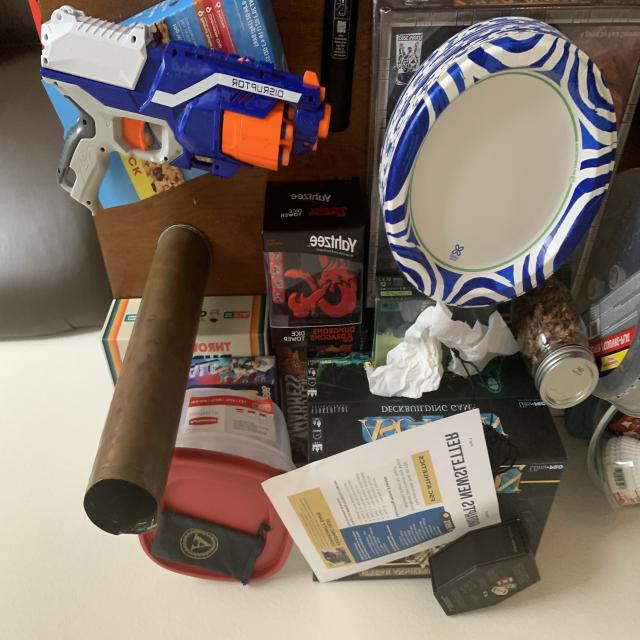nerf-maverik: (30, 0, 338, 228)
